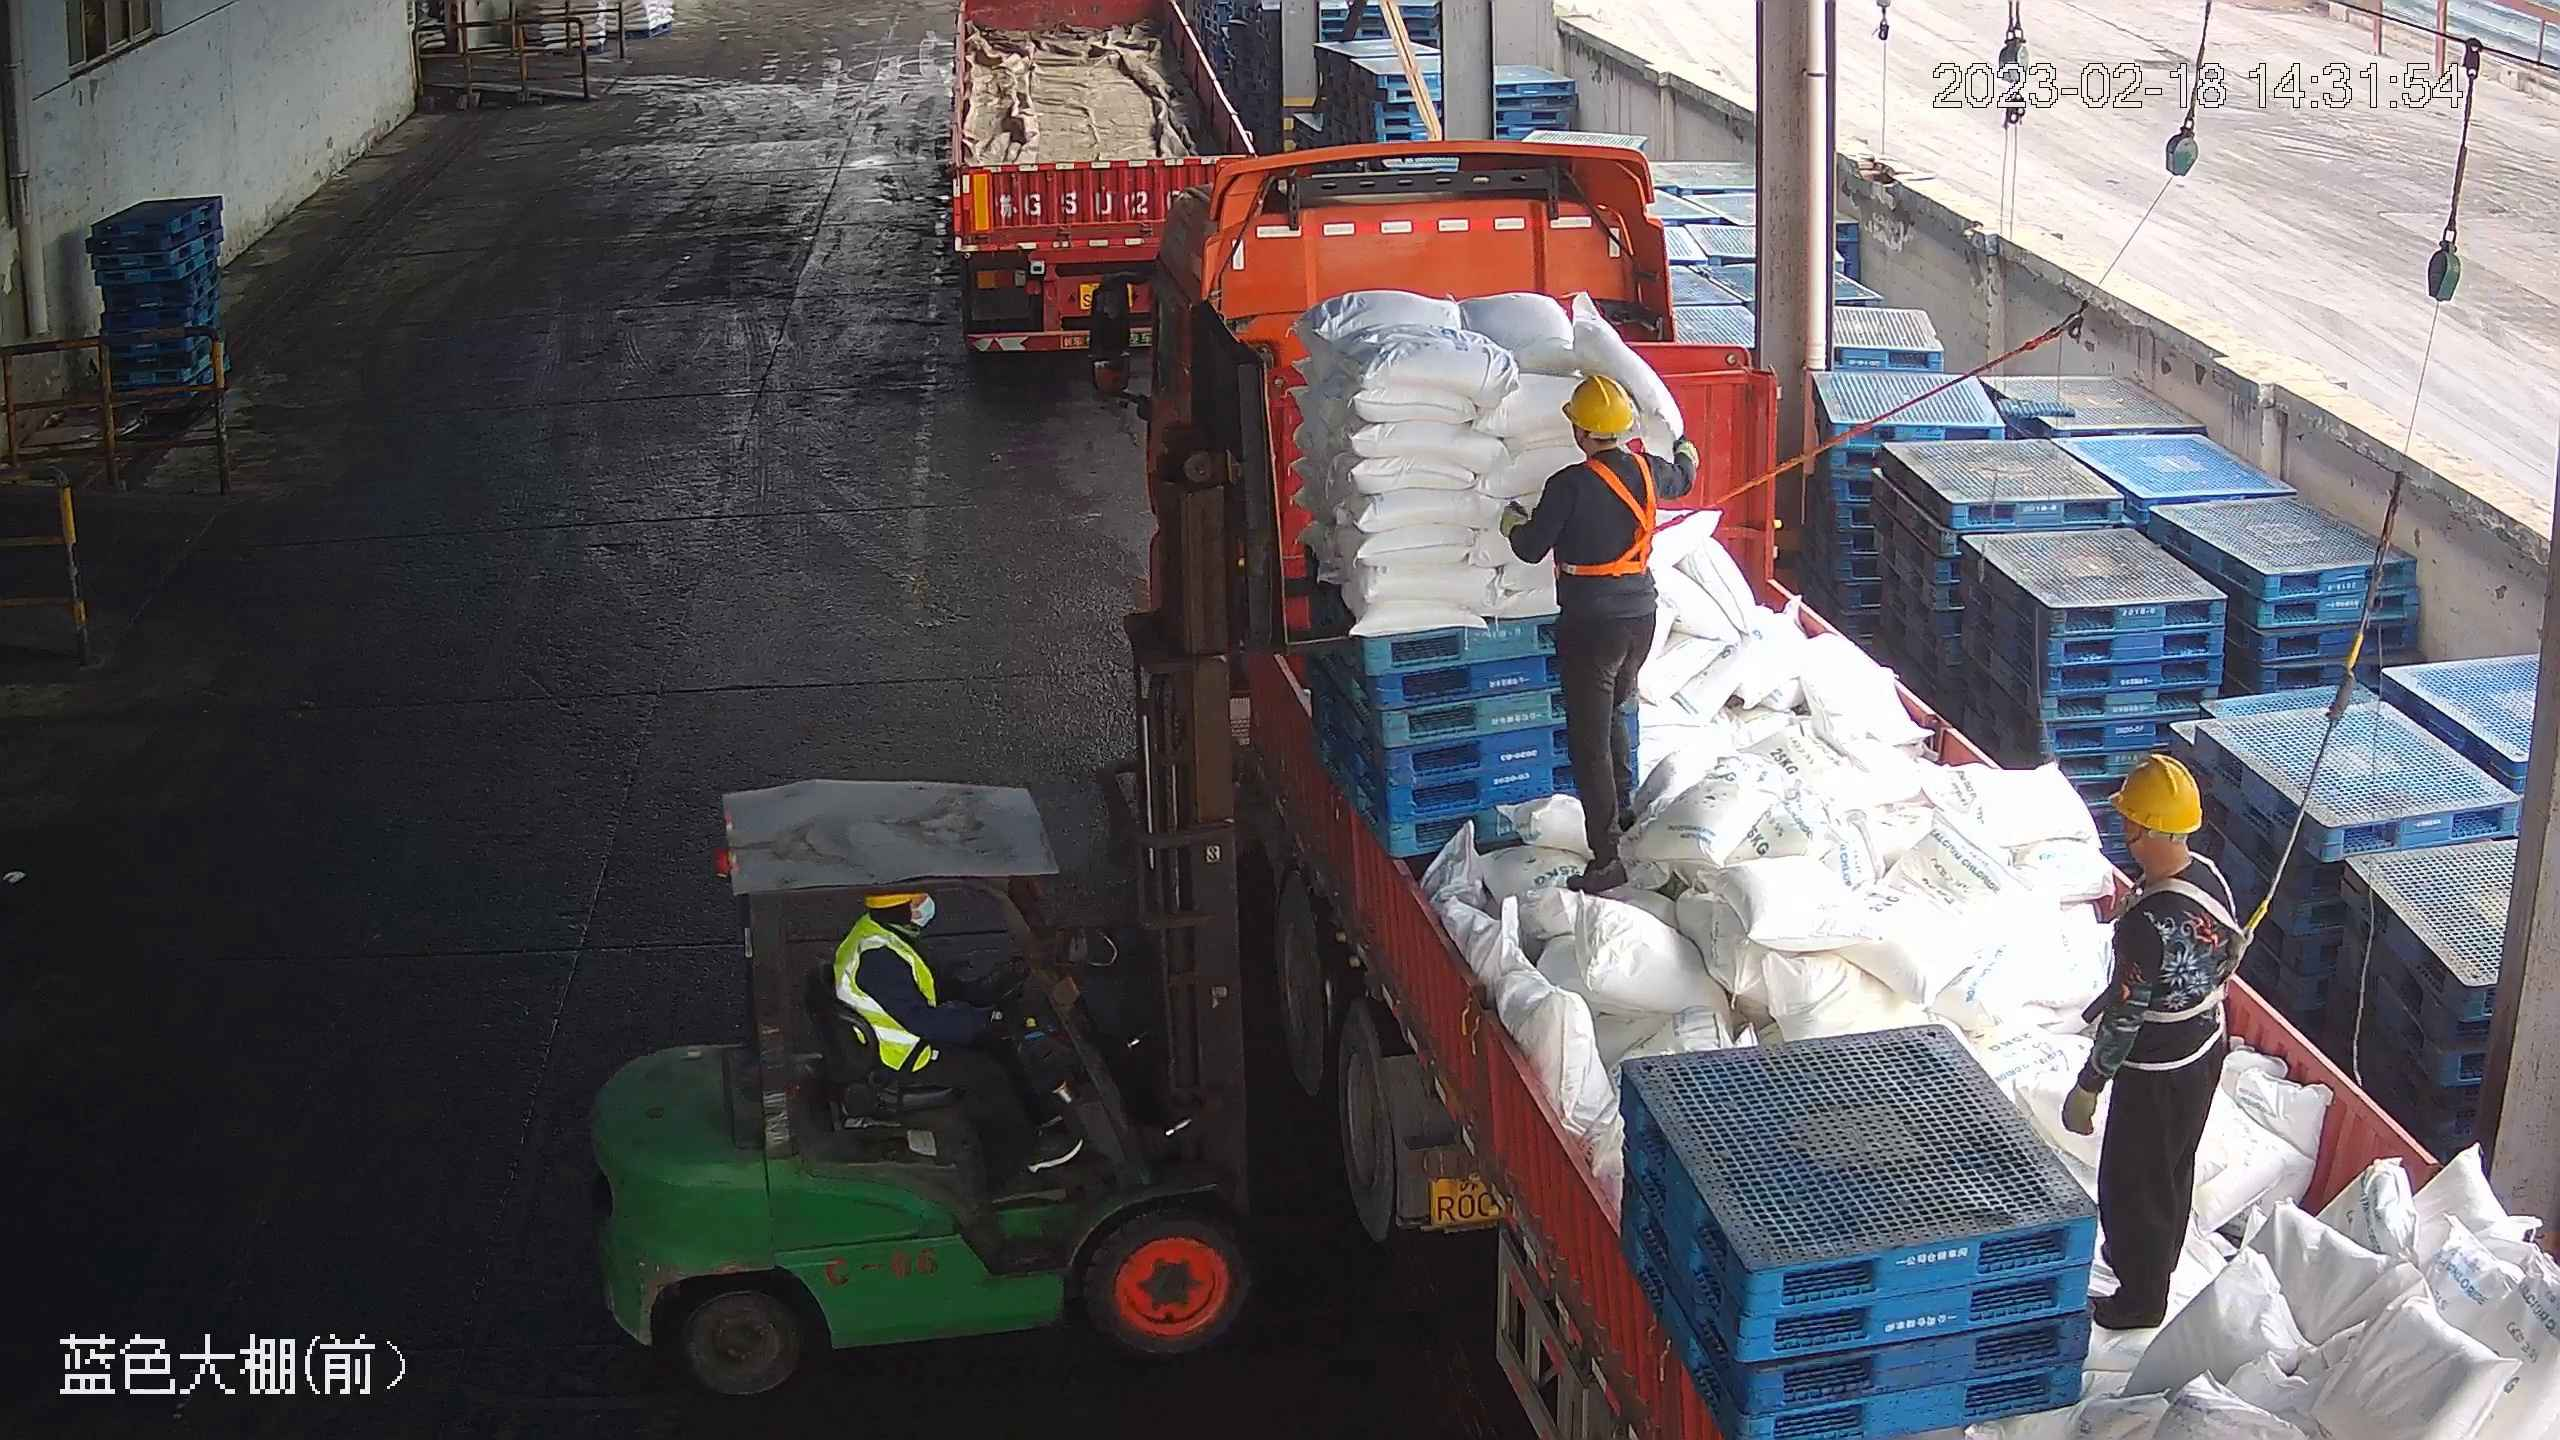belt: (2126, 869, 2265, 1031), (1562, 448, 1688, 582)
head: (2090, 750, 2239, 954), (1515, 374, 1673, 546)
helmet: (2108, 751, 2203, 833), (1561, 372, 1634, 430)
people: (2053, 753, 2250, 1348), (1493, 380, 1668, 890), (831, 884, 1085, 1172)
truck: (1065, 131, 2547, 1439), (937, 3, 1266, 373)
